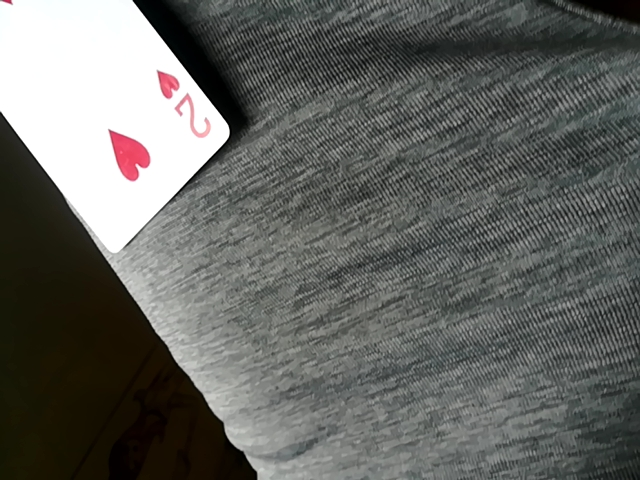hx 2: (0, 0, 239, 259)
